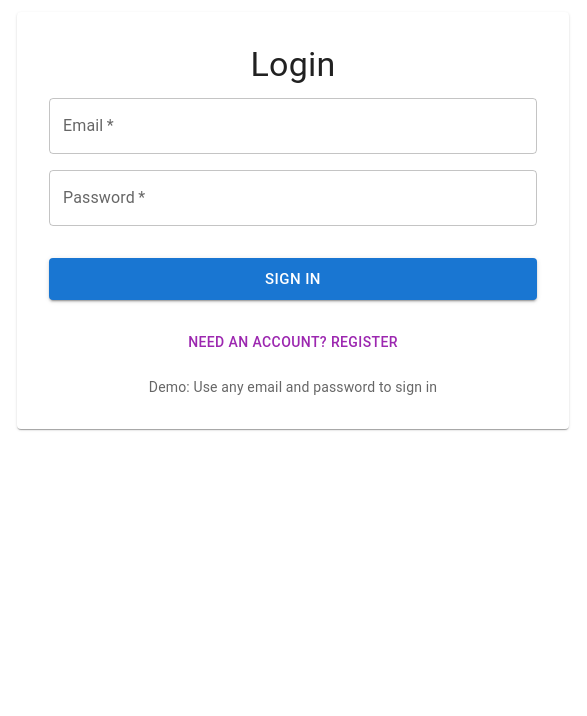
Test: Login Page › should show password requirements when password field is focused in register mode
The image size is (587, 716).
Switch to register mode
Click the button "Need an account? Register" at (293,342), box [49,324,537,361]
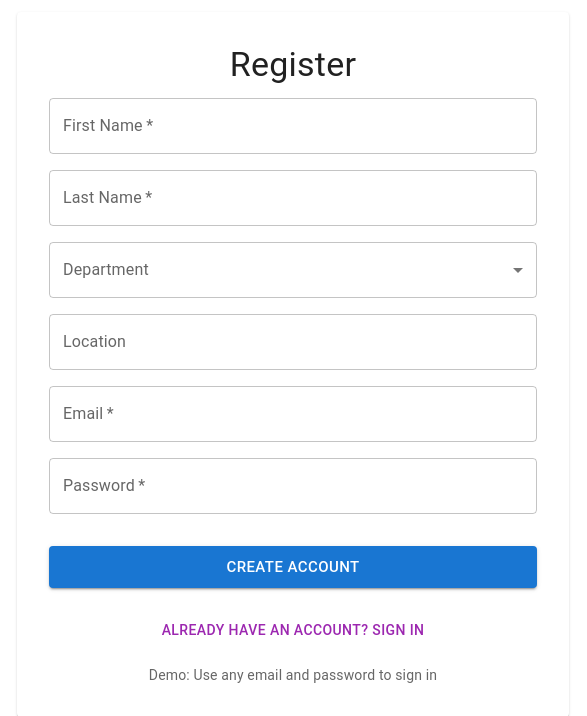
Focus on password field
Focus the password field labelled "Password *" at (293,486), box [49,458,537,514]
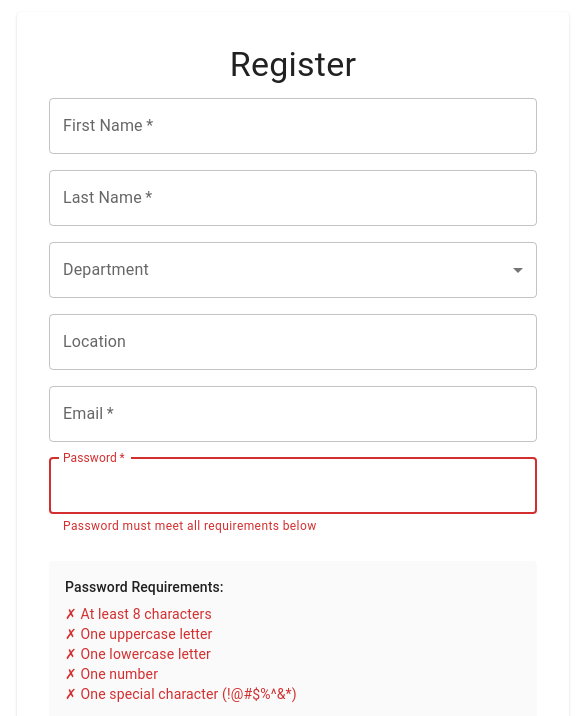
Expected: the heading "Password Requirements:" is shown, [65,579,224,595]
Expected: the text "✗ At least 8 characters" is shown, [65,606,212,622]
Expected: the text "✗ One uppercase letter" is shown, [65,626,212,642]
